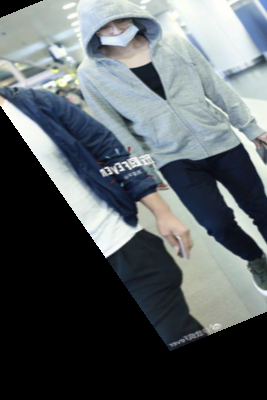mask_weared_incorrect: (66, 2, 160, 60)
